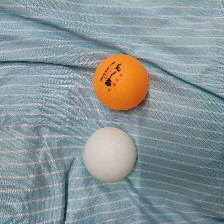WhiteBall: (82, 126, 136, 182)
YellowBall: (92, 53, 148, 110)
